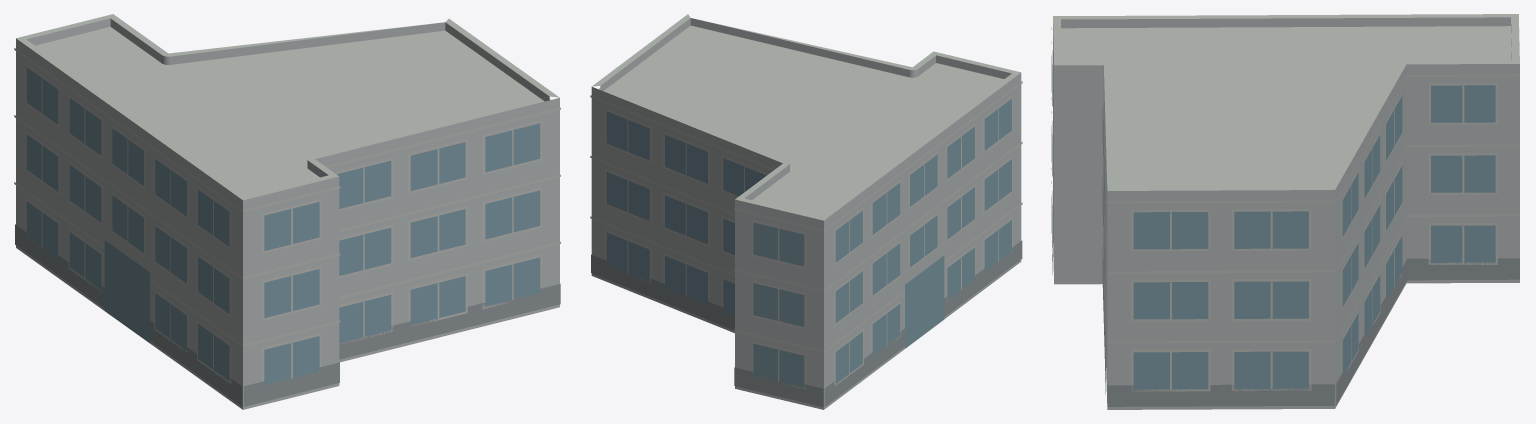
Rendered from public-9061798e-afdc-4b25-a5ea-e76ae2ea3f4d.glb.
3 renders of one model, left to right at view 1: azimuth 30°, elevation 25°; view 2: azimuth 150°, elevation 25°; view 3: azimuth 270°, elevation 25°, orthographic. The views are drawn at different scales.
Parts seen in each view (by area): view 1: public-9061798e-afdc-4b25-a5ea-e76ae2ea3f4d; view 2: public-9061798e-afdc-4b25-a5ea-e76ae2ea3f4d; view 3: public-9061798e-afdc-4b25-a5ea-e76ae2ea3f4d.
Boxes of the visible parts, x1,y1,x2,y2 form: public-9061798e-afdc-4b25-a5ea-e76ae2ea3f4d: [14, 14, 560, 409]; public-9061798e-afdc-4b25-a5ea-e76ae2ea3f4d: [590, 14, 1022, 409]; public-9061798e-afdc-4b25-a5ea-e76ae2ea3f4d: [1051, 14, 1519, 409].
Size of the model in its own units: 17.06 by 9.15 by 17.83.
